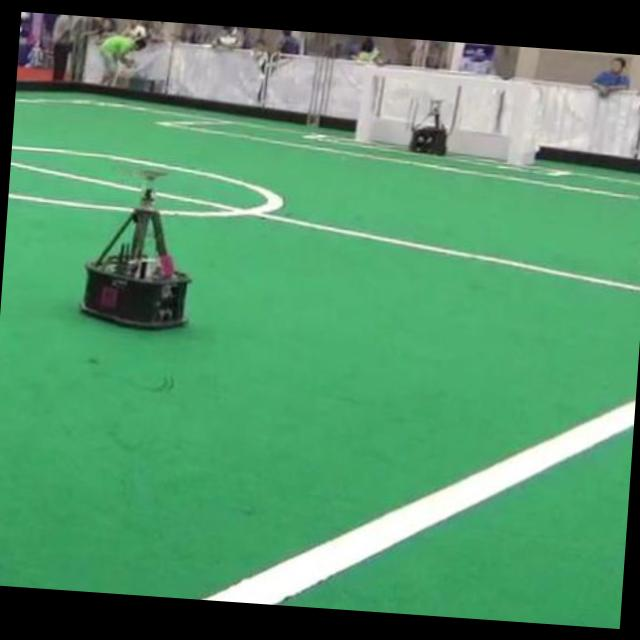goal: (355, 66, 375, 142), (506, 81, 524, 163)
robot: (80, 169, 190, 328), (408, 99, 447, 154)
